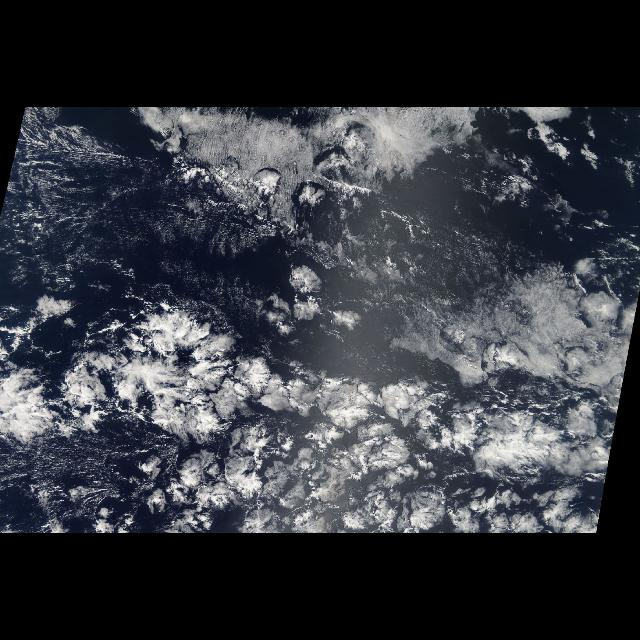Flower: (2, 321, 604, 533)
Sugar: (8, 143, 266, 299), (7, 443, 129, 522), (444, 226, 524, 288)
